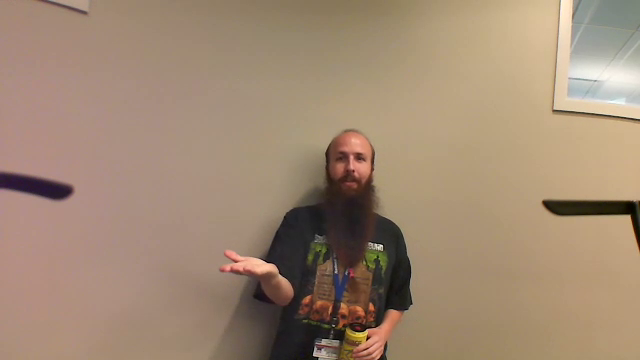land: (214, 246, 283, 287)
